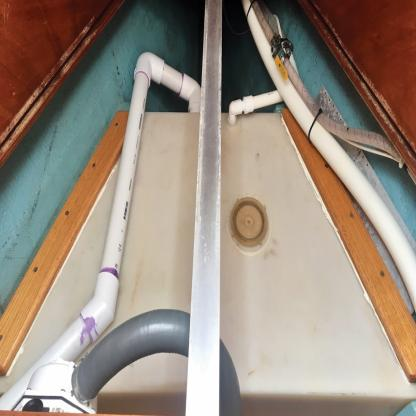PVC: (0, 51, 201, 411), (229, 2, 416, 314), (71, 308, 189, 404), (217, 337, 243, 415)
